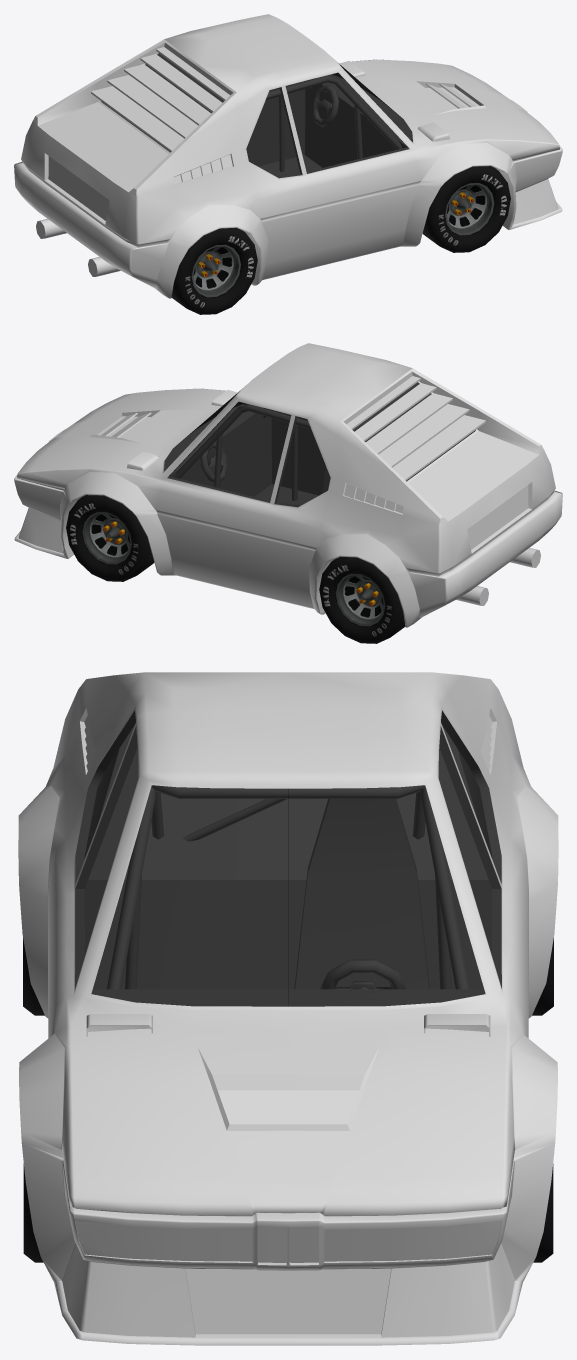
3 views of the same model, one above another, from view 1: azimuth 30°, elevation 25°; view 2: azimuth 150°, elevation 25°; view 3: azimuth 270°, elevation 25° (orthographic). The views are drawn at different scales.
Visible parts, largest first — view 1: CarBody, Glass, TireFrontR, TireRearR; view 2: CarBody, Glass, TireFrontL, TireRearL; view 3: CarBody, Glass.
Part boxes in pixels (bbox=[...]): CarBody: bbox=[14, 14, 562, 298]; Glass: bbox=[101, 53, 412, 178]; TireFrontR: bbox=[422, 166, 510, 252]; TireRearR: bbox=[171, 227, 257, 314]; CarBody: bbox=[14, 343, 562, 627]; Glass: bbox=[164, 382, 475, 507]; TireFrontL: bbox=[66, 495, 154, 581]; TireRearL: bbox=[319, 556, 405, 643]; CarBody: bbox=[18, 672, 558, 1345]; Glass: bbox=[75, 710, 501, 1006].
Size of the model in its own units: 253 by 104 by 130.
